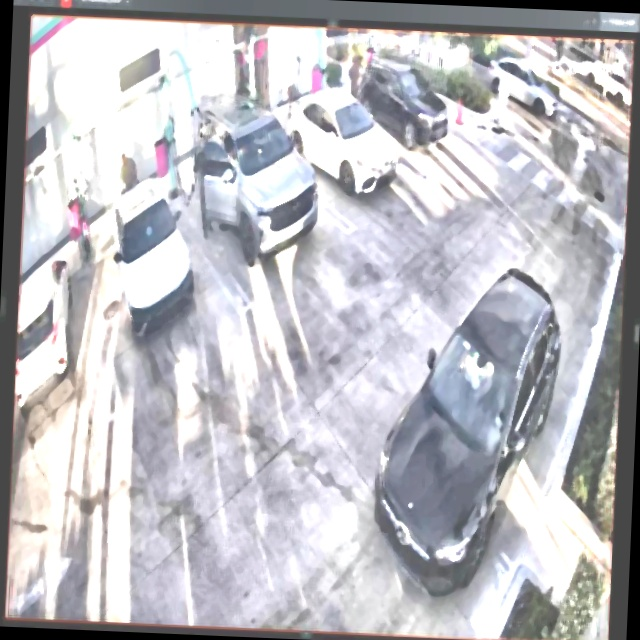Car: (370, 258, 569, 596), (192, 89, 320, 265), (109, 177, 194, 338), (284, 92, 401, 199), (362, 64, 451, 148)
